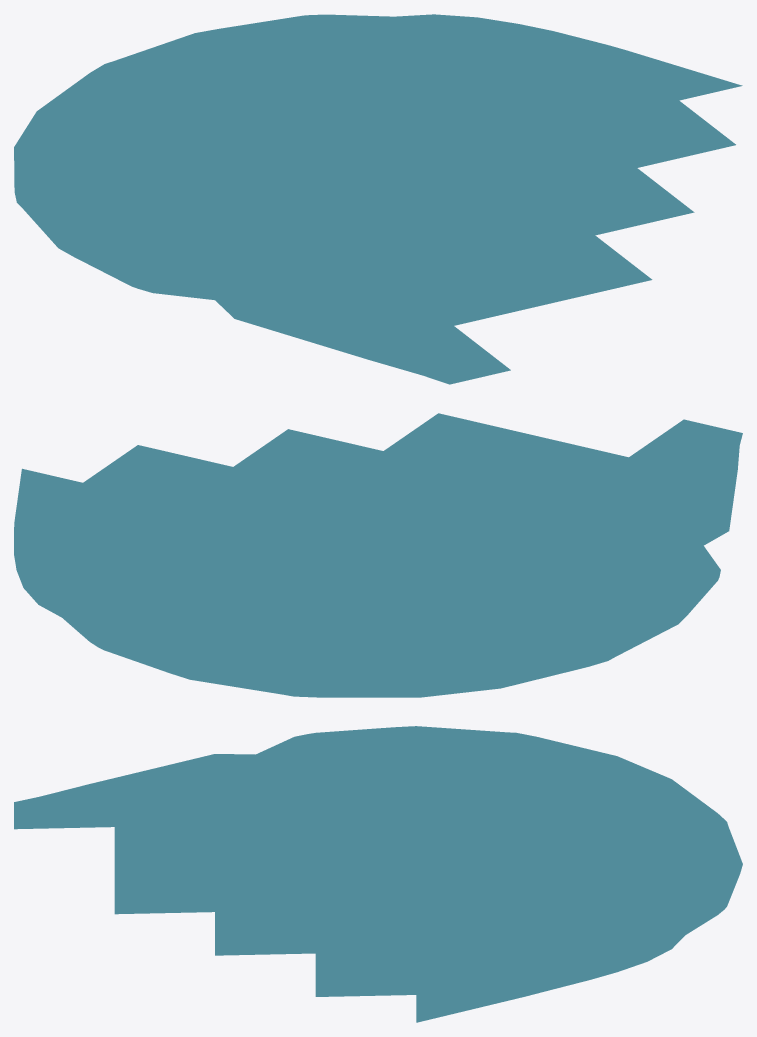
3 views of the same model, one above another, from view 1: azimuth 30°, elevation 25°; view 2: azimuth 150°, elevation 25°; view 3: azimuth 270°, elevation 25° (orthographic). The views are drawn at different scales.
Parts seen in each view (by area): view 1: prototype; view 2: prototype; view 3: prototype.
Part boxes in pixels (x1,y1,x2,y2): prototype: [14, 14, 742, 384]; prototype: [14, 413, 742, 697]; prototype: [14, 726, 742, 1022].
Bounding box in the file's own units: 13.78 × 0.1658 × 14.5.
